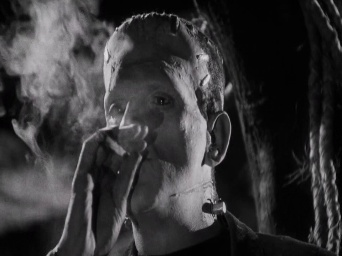smoke: (99, 133, 130, 159)
